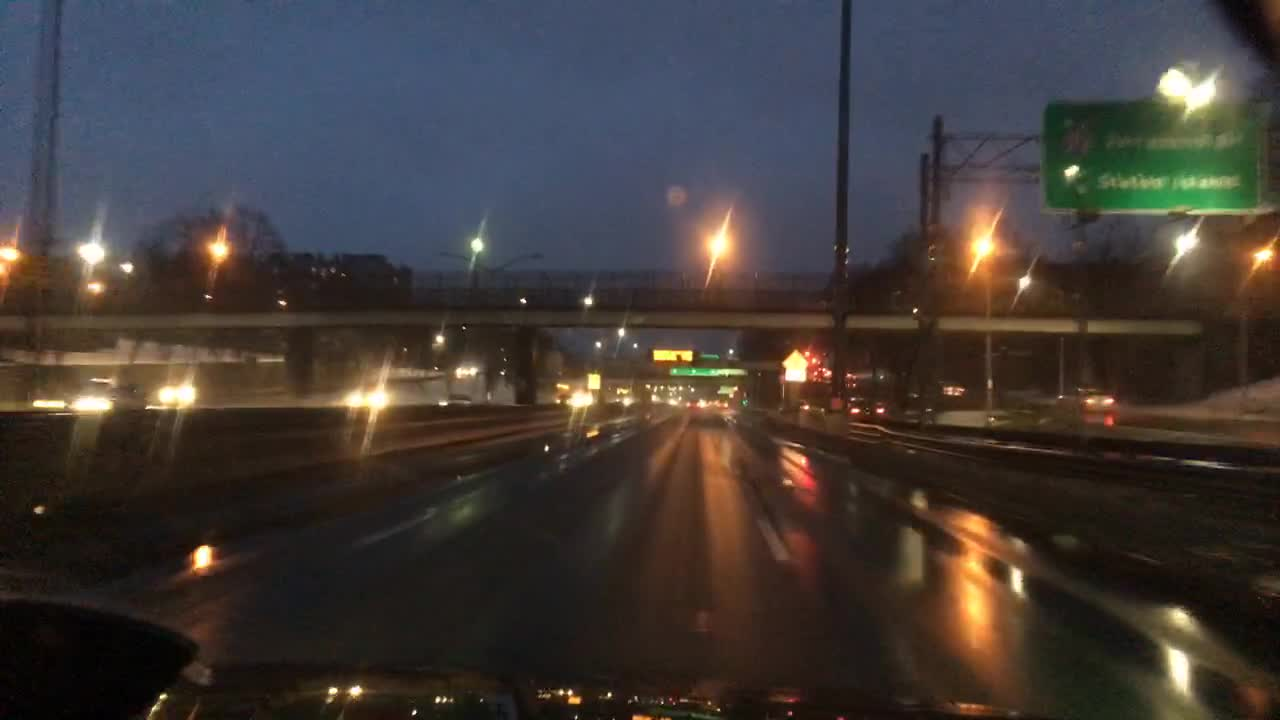car: (34, 377, 151, 416), (1053, 386, 1116, 416), (342, 382, 401, 407), (915, 377, 964, 404), (845, 393, 888, 423), (157, 377, 201, 402), (790, 396, 828, 421), (650, 389, 680, 407), (437, 392, 472, 406), (553, 388, 577, 407), (613, 389, 639, 404), (456, 363, 481, 377), (812, 366, 832, 378), (715, 398, 732, 412), (582, 392, 597, 407), (687, 397, 703, 409)
traffic sign: (1040, 98, 1261, 217), (665, 363, 748, 379), (782, 351, 809, 384), (648, 345, 692, 365), (698, 349, 724, 362), (587, 371, 602, 392)
